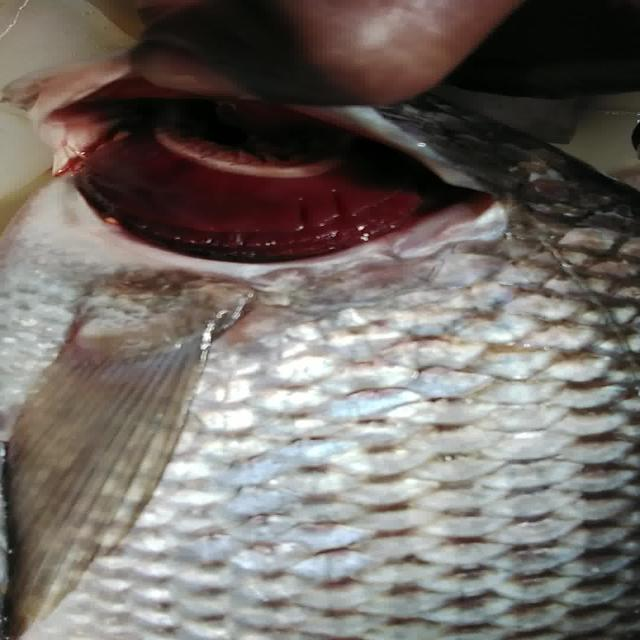Fresh: (34, 117, 511, 281)
